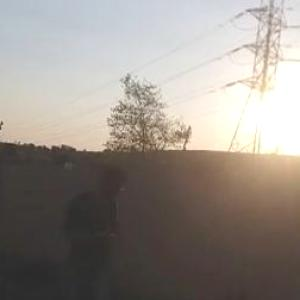follow: (57, 158, 131, 299)
